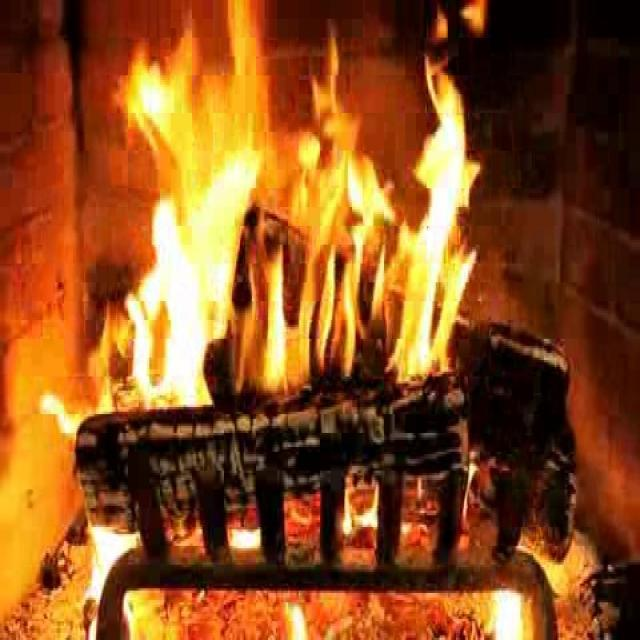Smoke: (120, 15, 484, 408)
